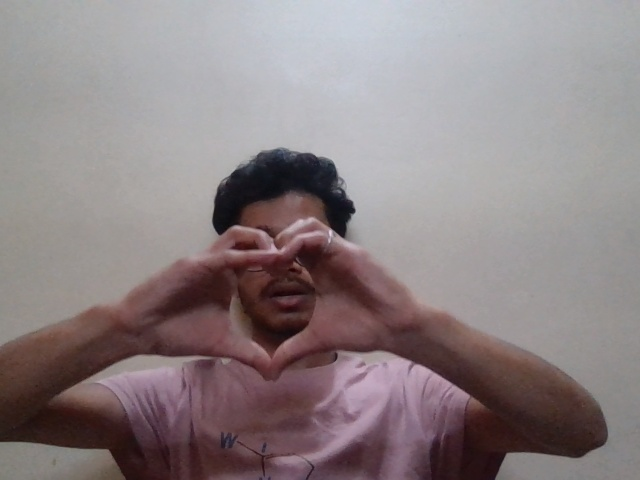silent-voice: (132, 206, 420, 373)
